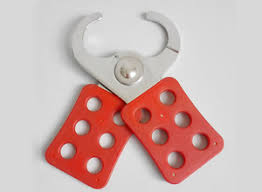hasp: (43, 11, 226, 190)
